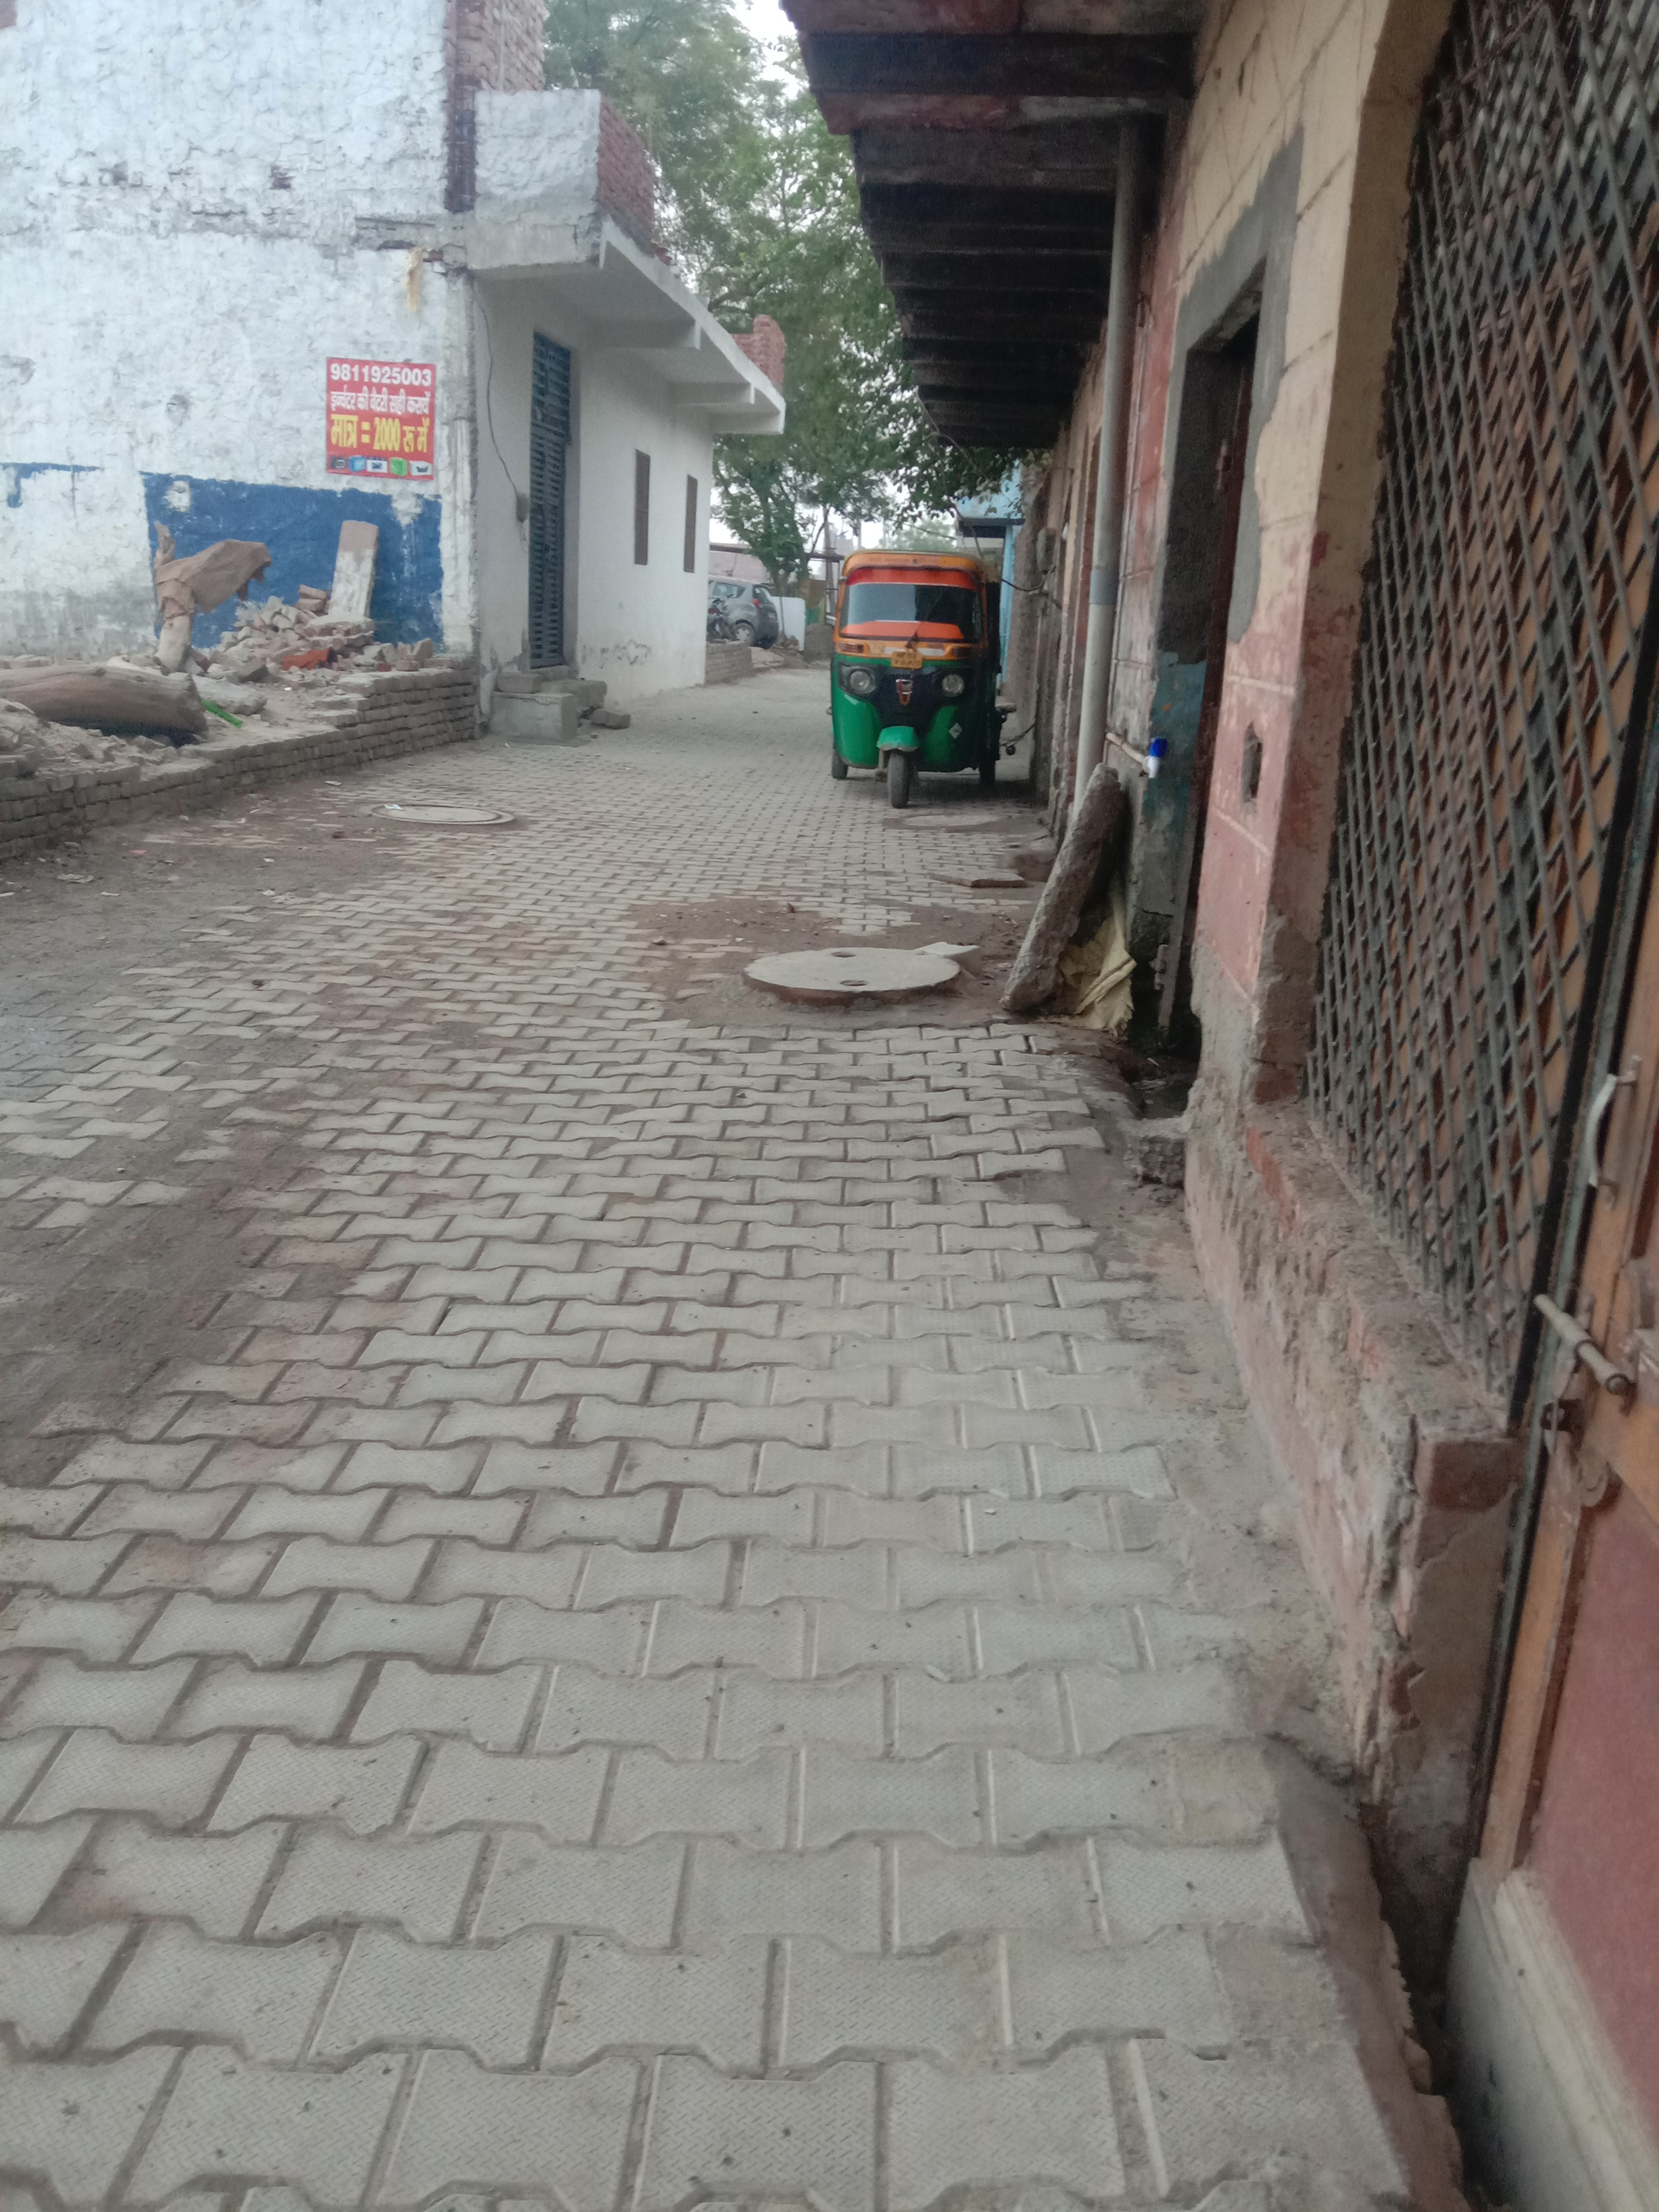auto: (826, 550, 1012, 808)
car: (708, 575, 779, 648)
two_wheelers: (708, 594, 737, 643)
